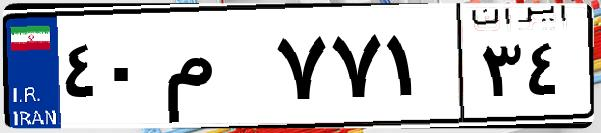0: (110, 28, 158, 98)
1: (385, 28, 445, 110)
3: (475, 38, 525, 113)
4: (57, 26, 110, 100), (525, 38, 570, 115)
7: (270, 28, 330, 110), (330, 28, 385, 110)
م: (158, 20, 270, 120)
